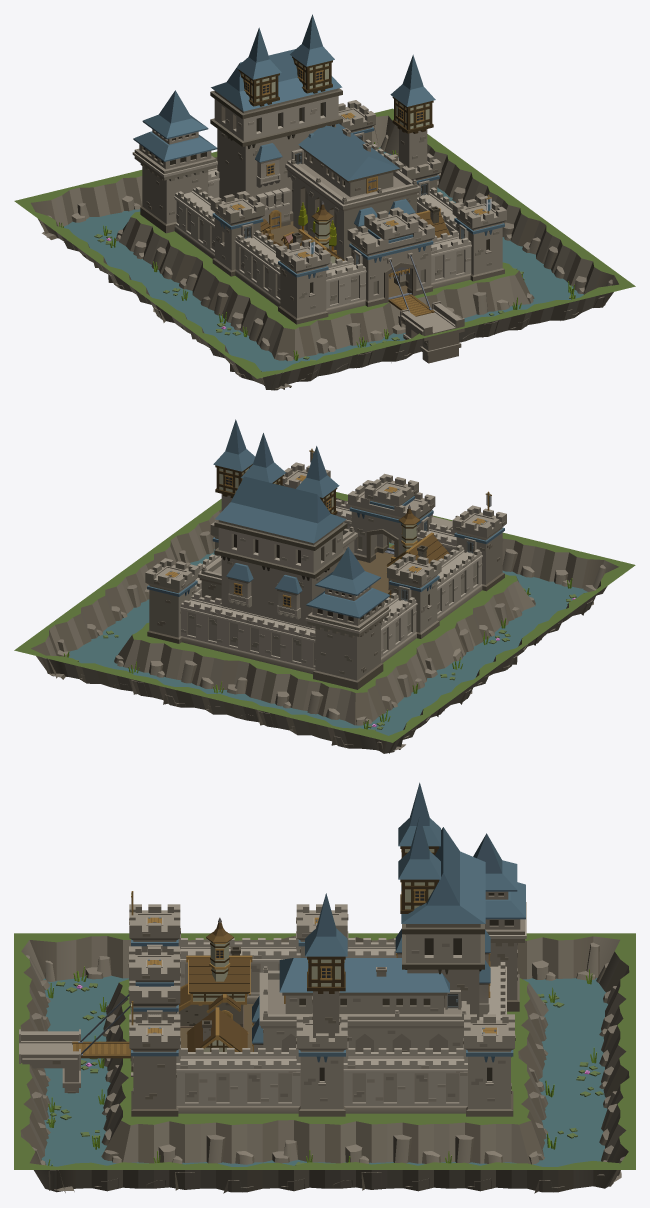
File: SF_Bld_Preset_Human_Castle_01.fbx
3 views of the same model, one above another, from view 1: azimuth 30°, elevation 25°; view 2: azimuth 150°, elevation 25°; view 3: azimuth 270°, elevation 25° (orthographic). The views are drawn at different scales.
Visible parts, largest first — view 1: SF_Env_Preset_Human_Castle_01; view 2: SF_Env_Preset_Human_Castle_01; view 3: SF_Env_Preset_Human_Castle_01.
Part boxes in pixels (x1,y1,x2,y2): SF_Env_Preset_Human_Castle_01: (14, 14, 635, 390); SF_Env_Preset_Human_Castle_01: (14, 419, 635, 753); SF_Env_Preset_Human_Castle_01: (14, 782, 635, 1193).
Bounding box in the file's own units: 90 × 51.22 × 100.
